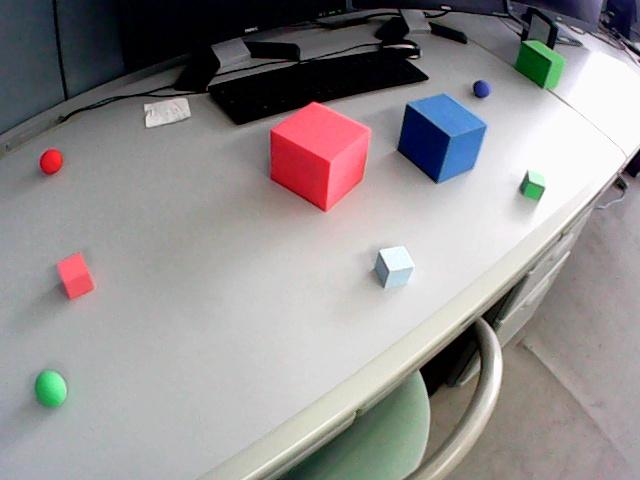blue_block: (398, 94, 486, 182), (375, 246, 414, 287)
red_block: (271, 102, 370, 210), (57, 253, 94, 298)
